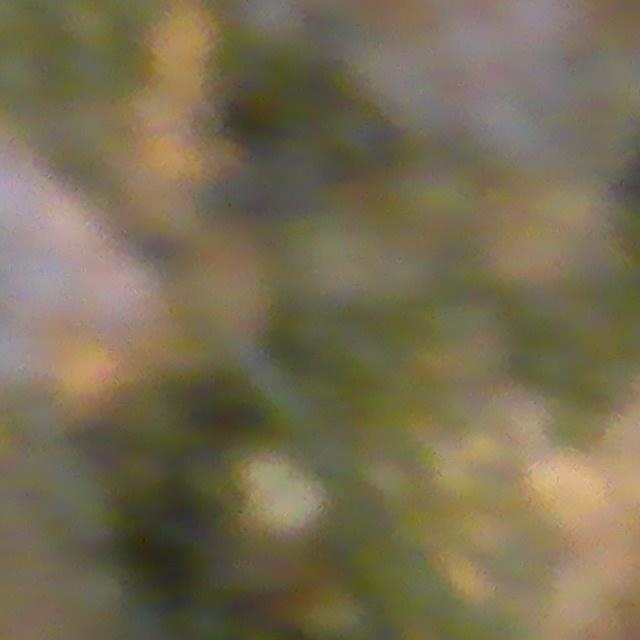SeaGrape: (297, 581, 379, 640), (23, 226, 83, 293), (0, 166, 73, 216), (93, 266, 140, 329)
